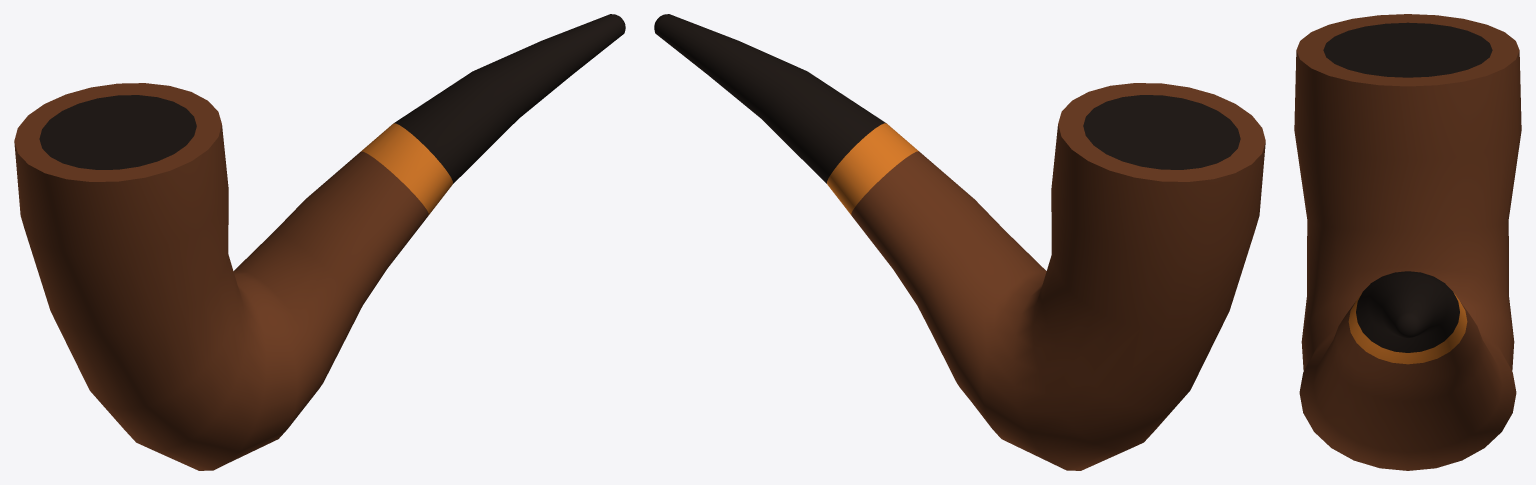
File: Pipe.fbx
3 renders of one model, left to right at view 1: azimuth 30°, elevation 25°; view 2: azimuth 150°, elevation 25°; view 3: azimuth 270°, elevation 25°, orthographic. The views are drawn at different scales.
Parts seen in each view (by area): view 1: Pipe; view 2: Pipe; view 3: Pipe.
Part boxes in pixels (<box>): Pipe: <box>14,14,625,470</box>; Pipe: <box>654,14,1265,470</box>; Pipe: <box>1294,14,1521,470</box>.
Size of the model in its own units: 0.3731 by 0.2148 by 0.1152.
